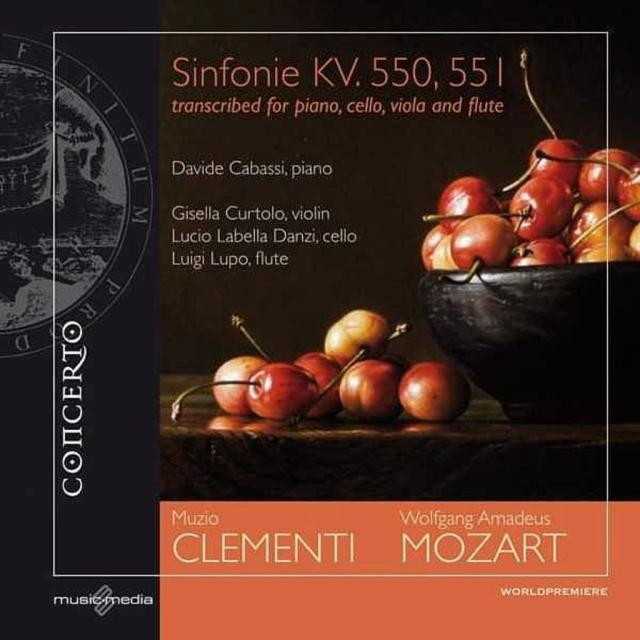Healty Apple: (384, 356, 473, 431)
